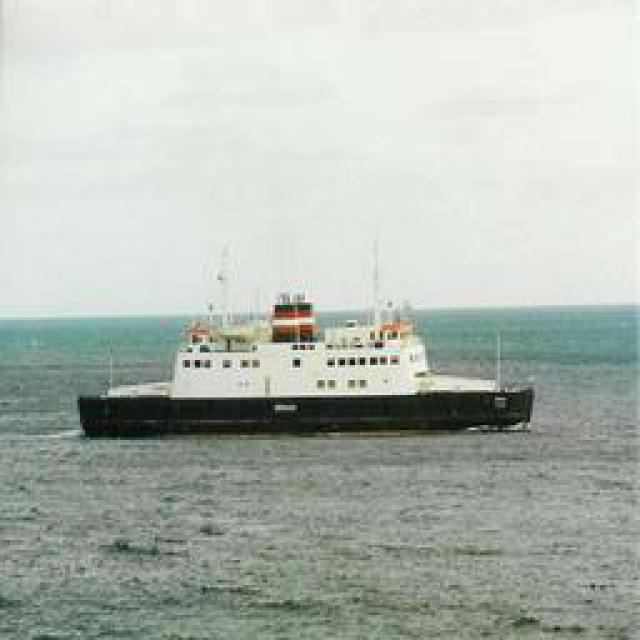Ship: (86, 291, 536, 436)
